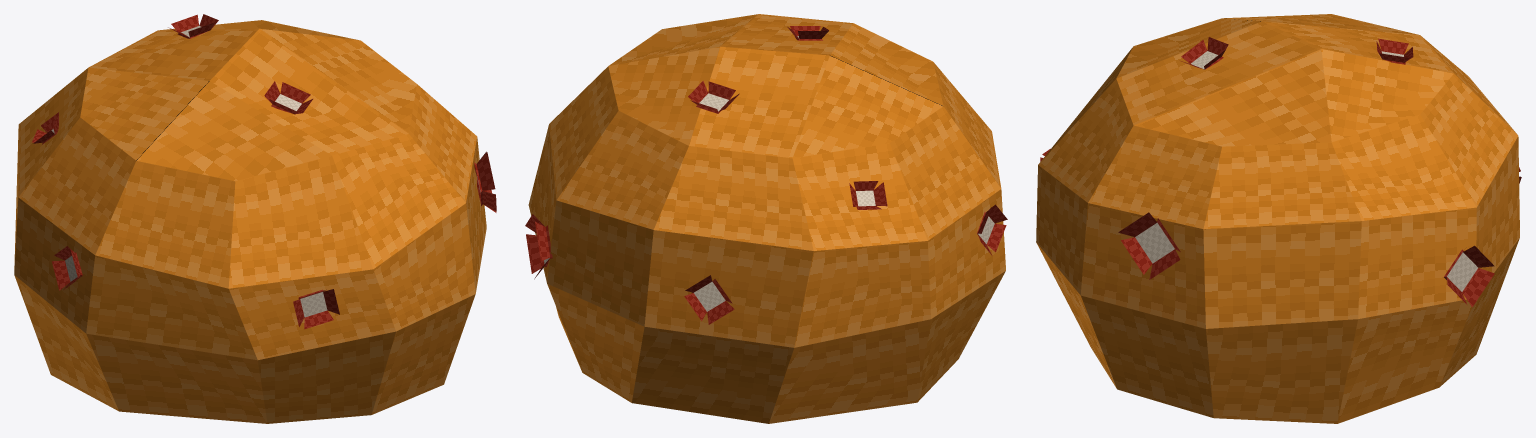
The model's file is Buisson2.glb.
3 views of the same model, side by side, from view 1: azimuth 30°, elevation 25°; view 2: azimuth 150°, elevation 25°; view 3: azimuth 270°, elevation 25° (orthographic).
Parts seen in each view (by area): view 1: Plane.007; view 2: Plane.007; view 3: Plane.007.
Part boxes in pixels (<box>): Plane.007: <box>14,14,496,423</box>; Plane.007: <box>525,14,1007,423</box>; Plane.007: <box>1036,14,1521,423</box>.
Bounding box in the file's own units: 1.37 × 0.9639 × 1.41.
Materials: 9 (9 with a texture image).
